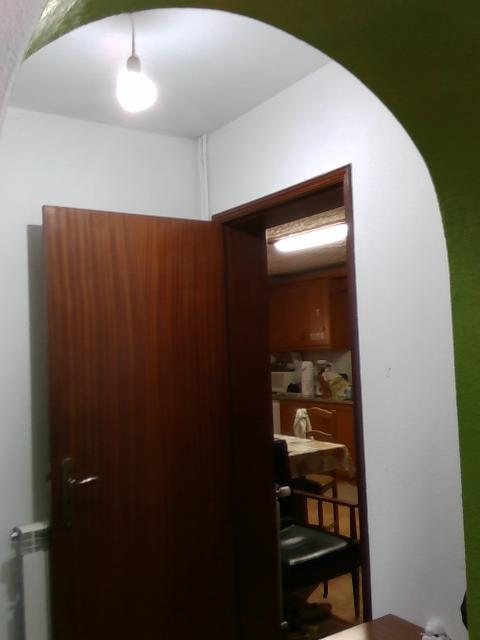open_door: (210, 158, 371, 639)
